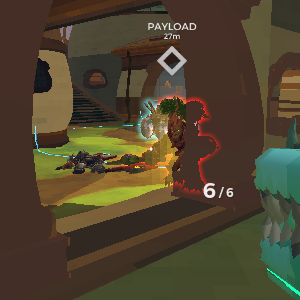model: (156, 98, 205, 191)
